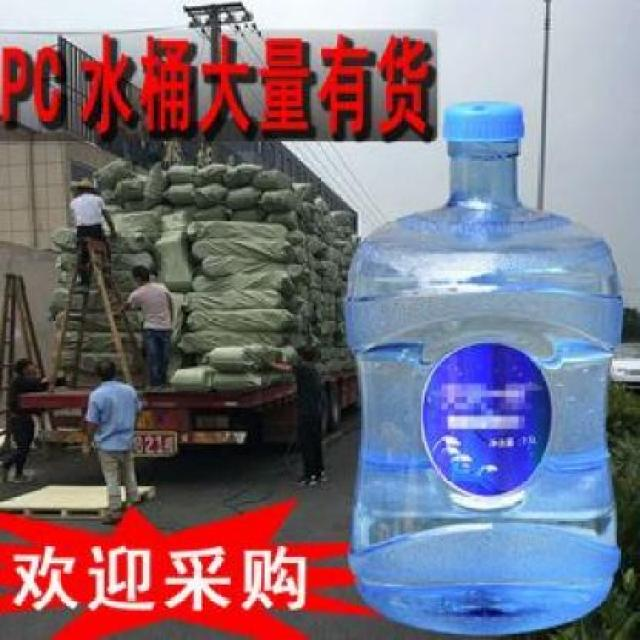coolerbottle: (342, 96, 628, 640)
